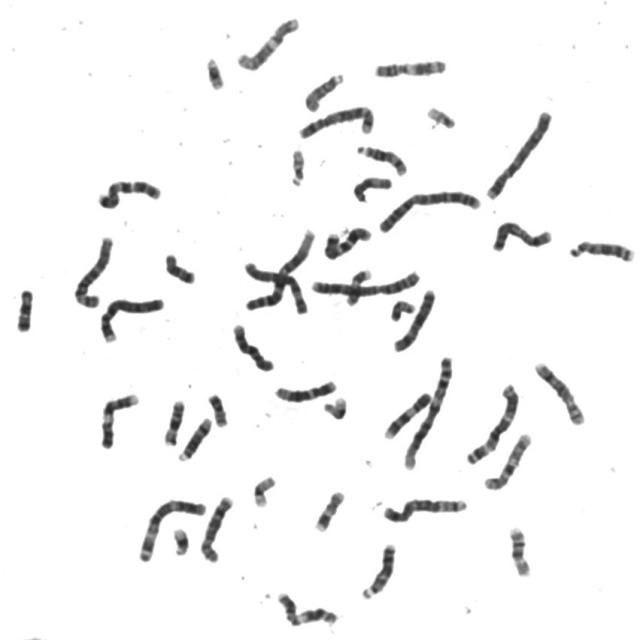A1: (242, 222, 320, 312), (400, 350, 457, 471)
A2: (375, 183, 485, 234), (306, 264, 424, 298)
A3: (462, 377, 523, 466), (134, 492, 210, 563)
B4: (481, 104, 556, 202), (96, 290, 168, 345)
B5: (295, 100, 378, 140), (379, 491, 471, 524)
C10: (480, 427, 535, 492), (229, 318, 278, 373)
C11: (272, 586, 342, 628), (370, 52, 450, 79)
C12: (232, 11, 303, 72), (270, 374, 340, 404)
C6: (241, 255, 312, 316), (70, 230, 117, 309)
C7: (94, 172, 165, 211), (320, 220, 376, 261)
C8: (530, 355, 590, 427), (196, 489, 237, 564)
C9: (380, 386, 434, 441), (96, 387, 143, 450)
D13: (358, 537, 399, 601), (566, 233, 638, 264)
D14: (174, 412, 216, 464), (352, 139, 410, 176)
D15: (301, 66, 347, 113), (349, 170, 396, 203)
E16: (506, 520, 536, 579), (159, 394, 188, 447)
E17: (311, 484, 348, 534), (343, 263, 375, 308)
E18: (160, 247, 199, 286), (11, 282, 37, 334)
F19: (249, 469, 280, 509), (320, 390, 350, 420)
F20: (204, 388, 232, 428), (387, 294, 418, 322)
G21: (202, 51, 228, 91), (168, 522, 192, 557)
G22: (422, 100, 460, 130), (287, 142, 309, 188)
X: (390, 283, 439, 354), (489, 216, 556, 253)
